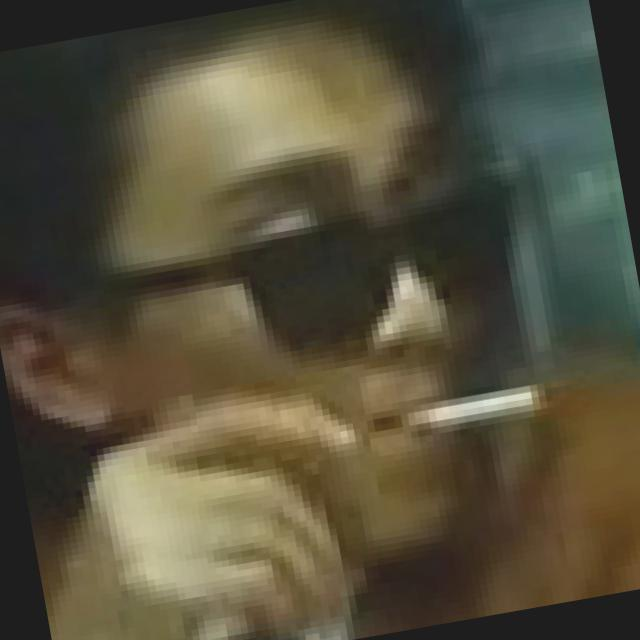cigarette: (380, 359, 570, 462)
